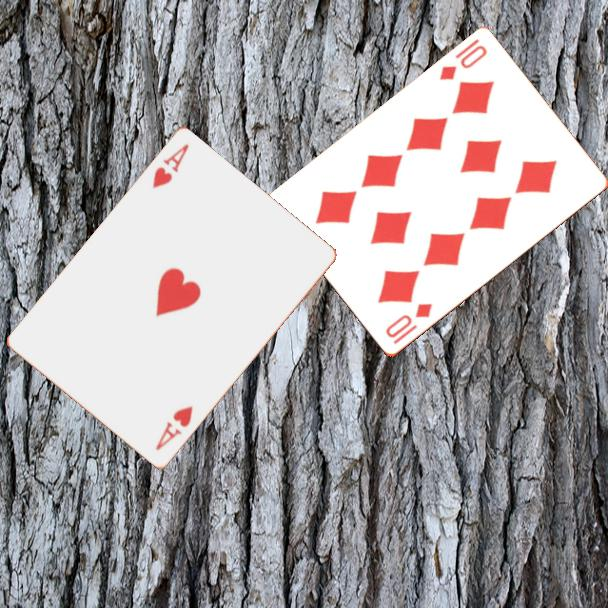d10: (436, 35, 490, 84), (382, 300, 435, 348)
h01: (152, 403, 196, 454), (148, 141, 192, 192)
